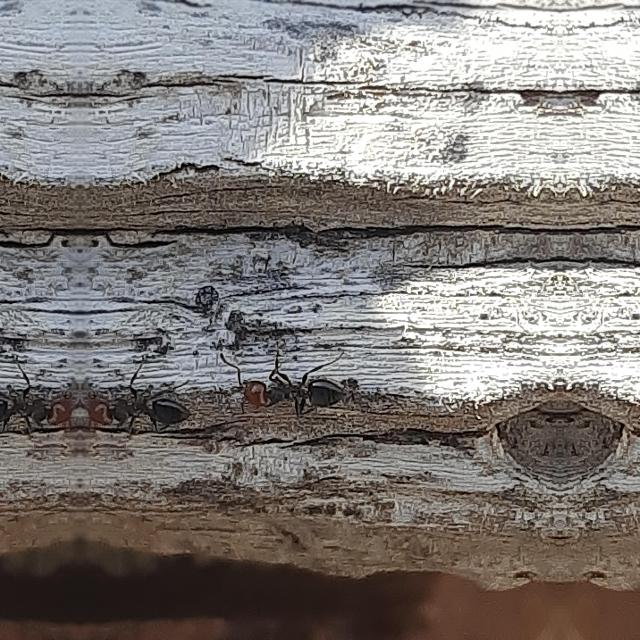Crematogaster: (80, 379, 218, 447), (246, 355, 364, 429), (0, 379, 80, 447)
